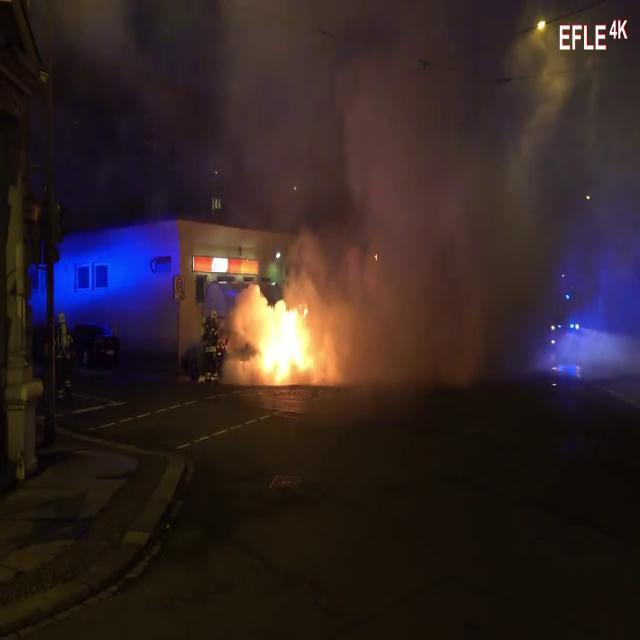Fire: (246, 285, 322, 384)
Smoke: (300, 2, 640, 394)
